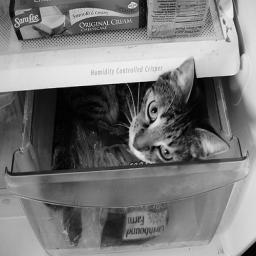catnose: (132, 133, 146, 152)
